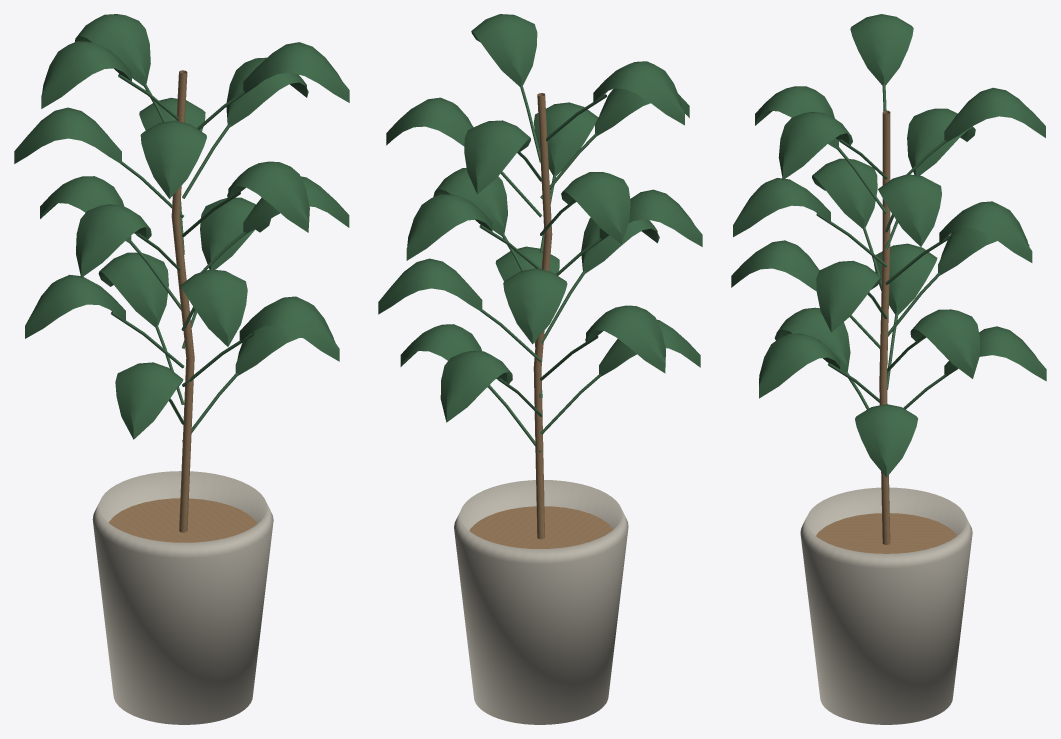
The picture shows the model from 3 angles, left to right: view 1: azimuth 30°, elevation 25°; view 2: azimuth 150°, elevation 25°; view 3: azimuth 270°, elevation 25°; orthographic projection. The views are drawn at different scales.
Parts seen in each view (by area): view 1: ceramic_pot, soil, trunk, leaf_14, leaf_6, leaf_1, leaf_9, leaf_2, leaf_11, leaf_17, leaf_15, leaf_3 (+9 smaller); view 2: ceramic_pot, soil, trunk, leaf_7, leaf_15, leaf_16, leaf_12, leaf_2, leaf_4, leaf_10, leaf_17, leaf_5 (+9 smaller); view 3: ceramic_pot, soil, leaf_0, leaf_17, leaf_13, leaf_8, leaf_5, trunk, leaf_16, leaf_9, leaf_3, leaf_10 (+9 smaller).
Boxes of the visible parts, x1,y1,x2,y2 form: ceramic_pot: [92, 471, 273, 724]; soil: [108, 498, 257, 542]; trunk: [171, 70, 194, 532]; leaf_14: [140, 120, 206, 198]; leaf_6: [180, 269, 247, 346]; leaf_1: [115, 362, 183, 439]; leaf_9: [76, 204, 151, 277]; leaf_2: [98, 252, 168, 326]; leaf_11: [227, 161, 309, 232]; leaf_17: [41, 41, 131, 108]; leaf_15: [75, 14, 150, 86]; leaf_3: [239, 296, 339, 361]; ceramic_pot: [454, 480, 628, 724]; soil: [469, 506, 613, 548]; trunk: [533, 93, 552, 539]; leaf_7: [503, 268, 567, 344]; leaf_15: [464, 120, 530, 194]; leaf_16: [471, 14, 537, 86]; leaf_12: [561, 172, 630, 244]; leaf_2: [440, 351, 512, 422]; leaf_4: [585, 305, 665, 373]; leaf_10: [406, 194, 492, 260]; leaf_17: [593, 61, 684, 125]; leaf_5: [378, 258, 482, 314]; ceramic_pot: [800, 487, 972, 724]; soil: [816, 513, 956, 553]; leaf_0: [855, 404, 917, 477]; leaf_17: [850, 14, 913, 85]; leaf_13: [878, 174, 941, 246]; leaf_8: [816, 260, 881, 332]; leaf_5: [910, 309, 979, 378]; trunk: [879, 110, 890, 544]; leaf_16: [778, 112, 852, 179]; leaf_9: [812, 158, 877, 228]; leaf_3: [759, 333, 840, 398]; leaf_10: [939, 201, 1032, 262].
Size of the model in its own units: 0.45 by 1 by 0.45.
Materials: 3 (1 with a texture image).
